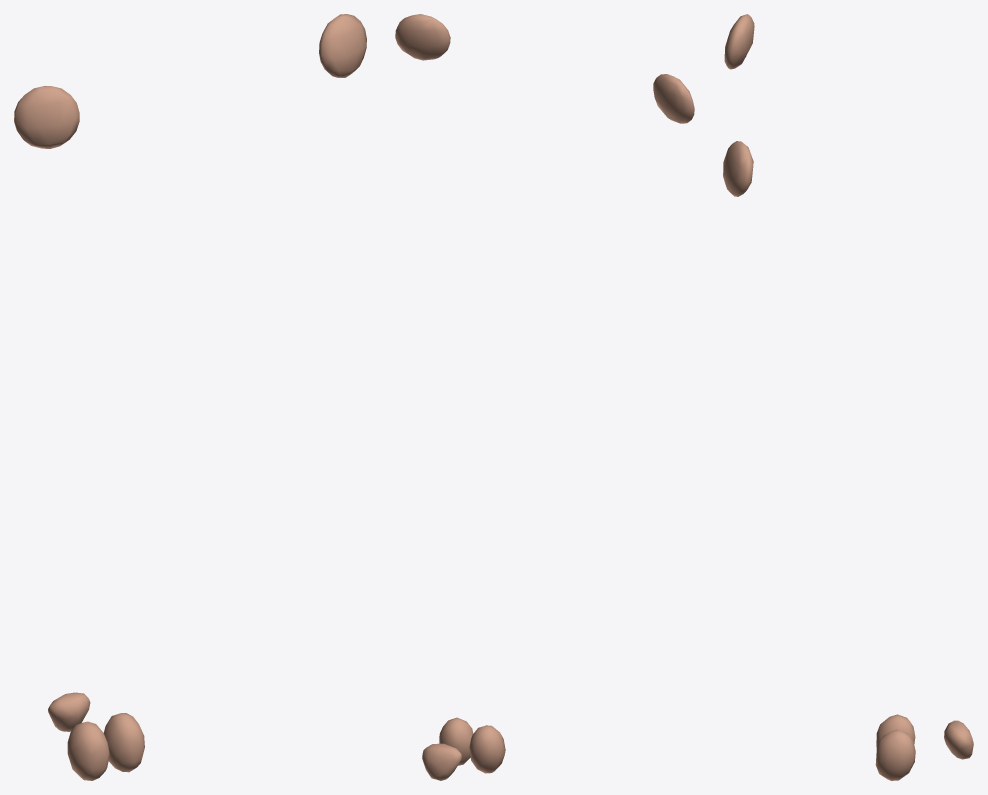
File: pediatric_adolescent_male.reproductive.LOD2.glb
3 renders of one model, left to right at view 1: azimuth 30°, elevation 25°; view 2: azimuth 150°, elevation 25°; view 3: azimuth 270°, elevation 25°, orthographic. The views are drawn at different scales.
Parts seen in each view (by area): view 1: PEDIATRIC.ADOLESCENT.MALE.REPRODUCTIVE.BREAST_ADIPOSE_TISSUE (×2), PEDIATRIC.ADOLESCENT.MALE.REPRODUCTIVE.TESTIS.R, PEDIATRIC.ADOLESCENT.MALE.REPRODUCTIVE.TESTIS.L, PEDIATRIC.ADOLESCENT.MALE.REPRODUCTIVE.PROSTATE; view 2: PEDIATRIC.ADOLESCENT.MALE.REPRODUCTIVE.BREAST_ADIPOSE_TISSUE (×2), PEDIATRIC.ADOLESCENT.MALE.REPRODUCTIVE.TESTIS.R, PEDIATRIC.ADOLESCENT.MALE.REPRODUCTIVE.PROSTATE, PEDIATRIC.ADOLESCENT.MALE.REPRODUCTIVE.TESTIS.L; view 3: PEDIATRIC.ADOLESCENT.MALE.REPRODUCTIVE.BREAST_ADIPOSE_TISSUE (×2), PEDIATRIC.ADOLESCENT.MALE.REPRODUCTIVE.TESTIS.L, PEDIATRIC.ADOLESCENT.MALE.REPRODUCTIVE.PROSTATE, PEDIATRIC.ADOLESCENT.MALE.REPRODUCTIVE.TESTIS.R.
Part boxes in pixels (x1,y1,x2,y2): PEDIATRIC.ADOLESCENT.MALE.REPRODUCTIVE.BREAST_ADIPOSE_TISSUE (×2): (14,14,366,148); PEDIATRIC.ADOLESCENT.MALE.REPRODUCTIVE.TESTIS.R: (67,721,109,780); PEDIATRIC.ADOLESCENT.MALE.REPRODUCTIVE.TESTIS.L: (103,713,144,772); PEDIATRIC.ADOLESCENT.MALE.REPRODUCTIVE.PROSTATE: (48,692,90,731); PEDIATRIC.ADOLESCENT.MALE.REPRODUCTIVE.BREAST_ADIPOSE_TISSUE (×2): (395,14,694,123); PEDIATRIC.ADOLESCENT.MALE.REPRODUCTIVE.TESTIS.R: (469,725,505,773); PEDIATRIC.ADOLESCENT.MALE.REPRODUCTIVE.PROSTATE: (422,743,461,780); PEDIATRIC.ADOLESCENT.MALE.REPRODUCTIVE.TESTIS.L: (439,717,473,765); PEDIATRIC.ADOLESCENT.MALE.REPRODUCTIVE.BREAST_ADIPOSE_TISSUE (×2): (723,14,754,196); PEDIATRIC.ADOLESCENT.MALE.REPRODUCTIVE.TESTIS.L: (875,729,915,780); PEDIATRIC.ADOLESCENT.MALE.REPRODUCTIVE.PROSTATE: (944,720,973,759); PEDIATRIC.ADOLESCENT.MALE.REPRODUCTIVE.TESTIS.R: (876,714,915,747).
Size of the model in its own units: 0.2104 by 0.451 by 0.148.
